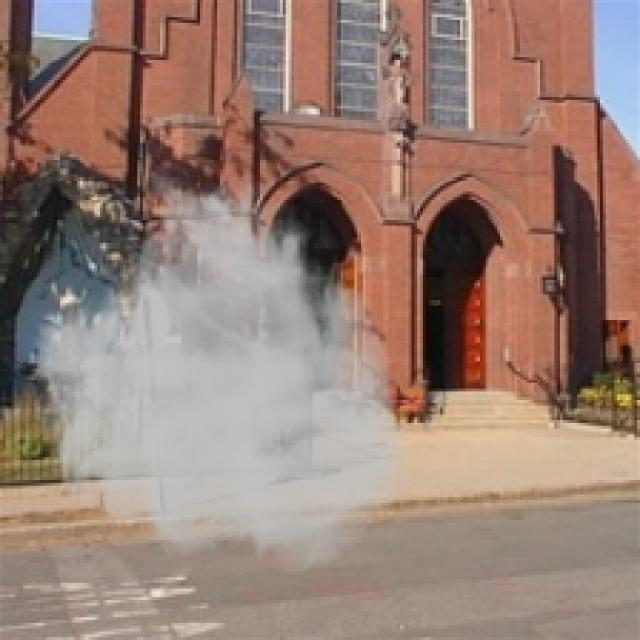smoke: (29, 163, 412, 577)
